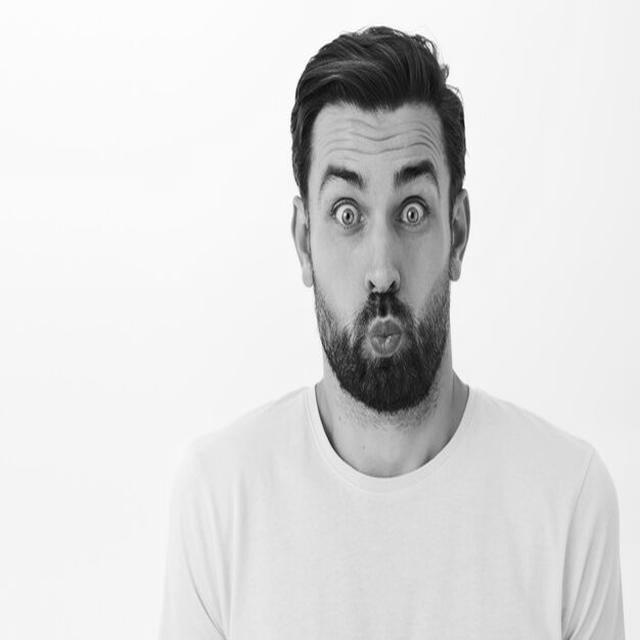Surprised: (310, 101, 451, 413)
